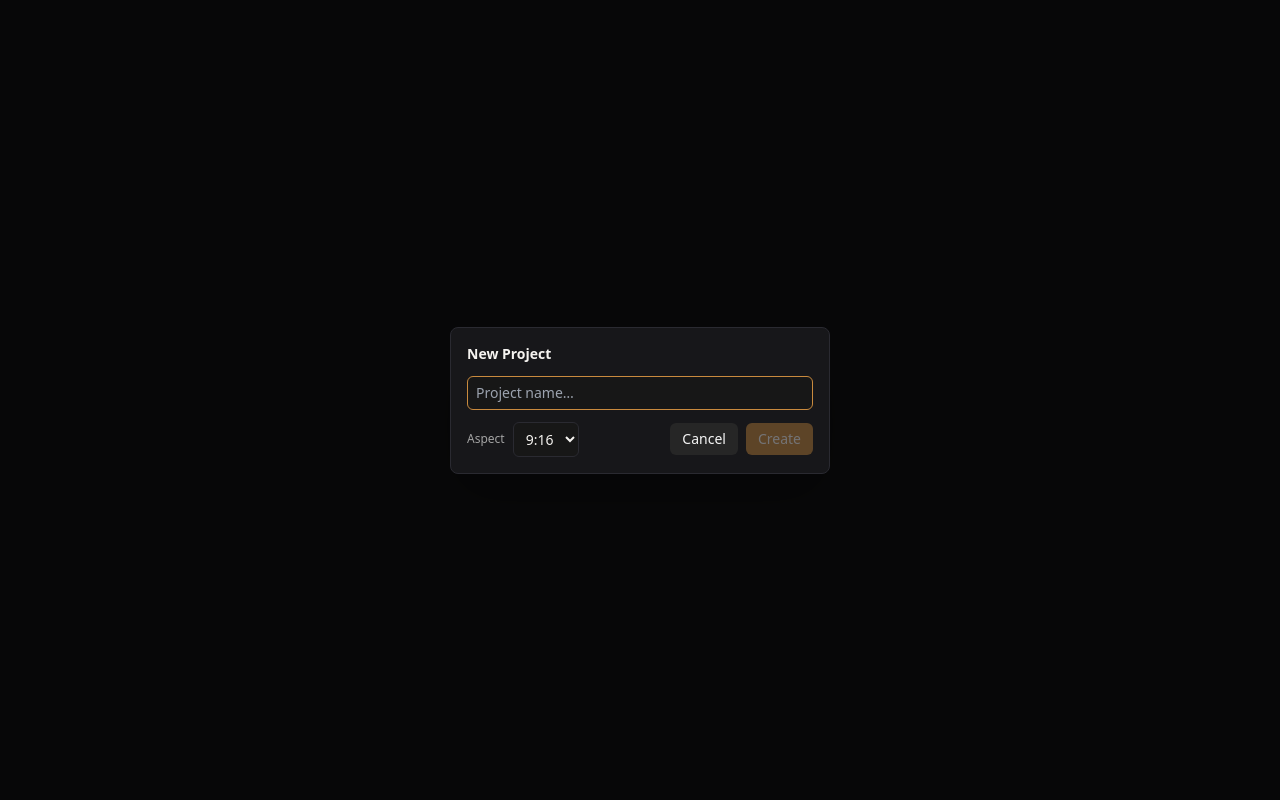
Test: NewProjectDialog › tells the user why a project could not be created
Type "my film" into the field with placeholder "Project name…" at (640, 392), box [467, 376, 813, 410]
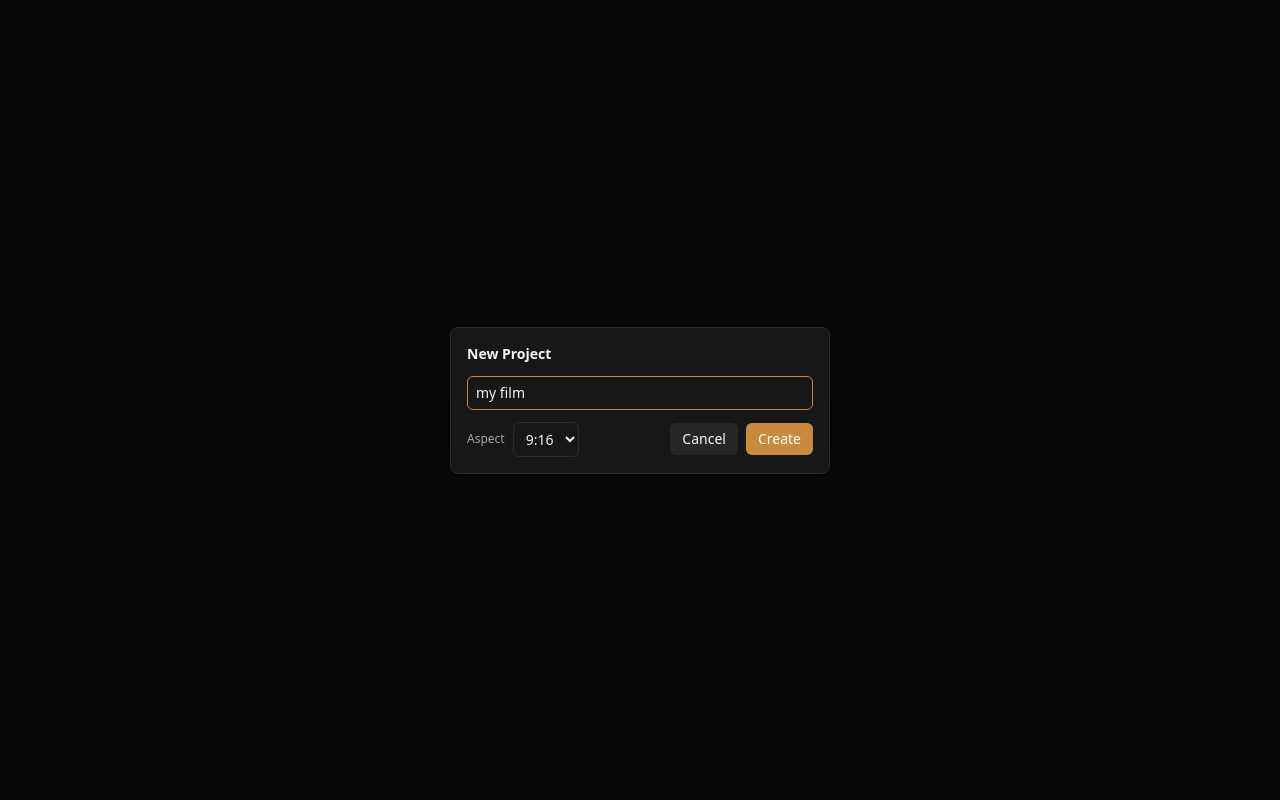
Click the button "Create" at (779, 439), box [746, 423, 813, 455]
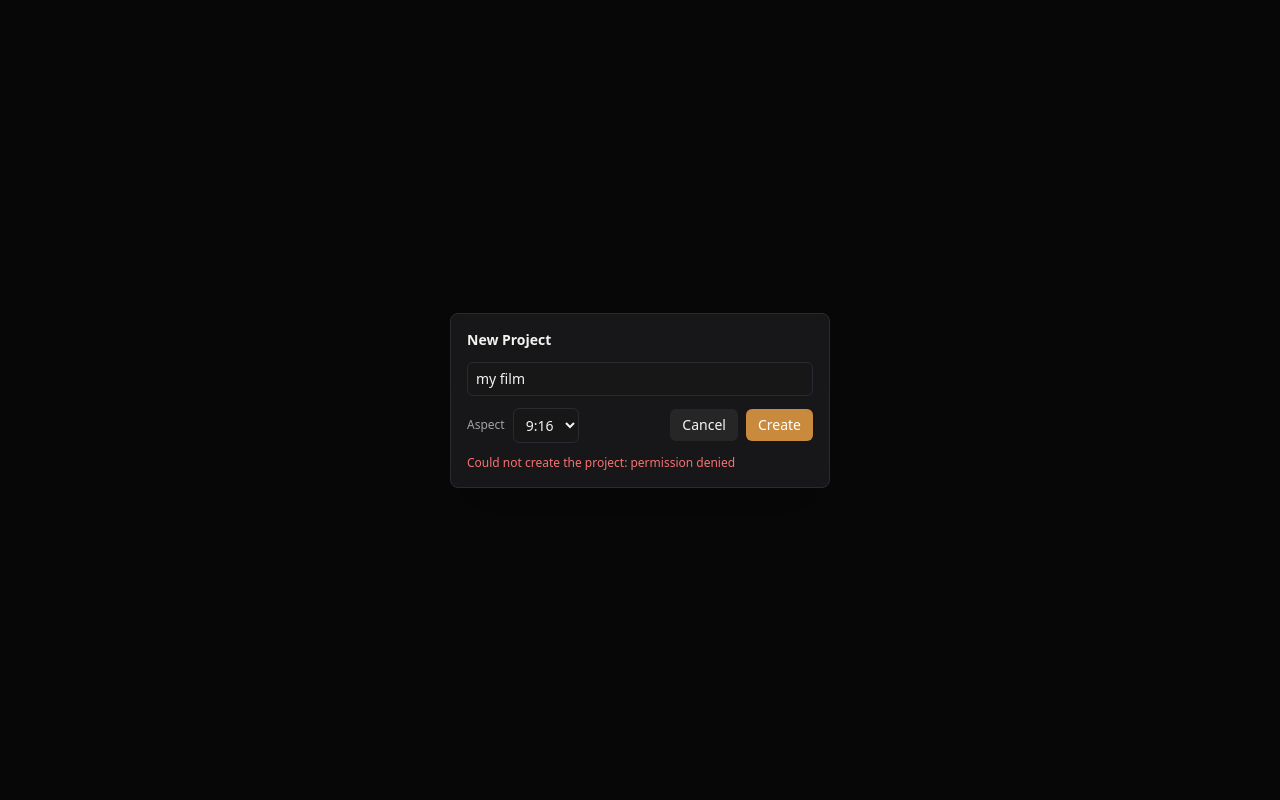
Expected: the message shows "permission denied", [630, 454, 735, 470]
